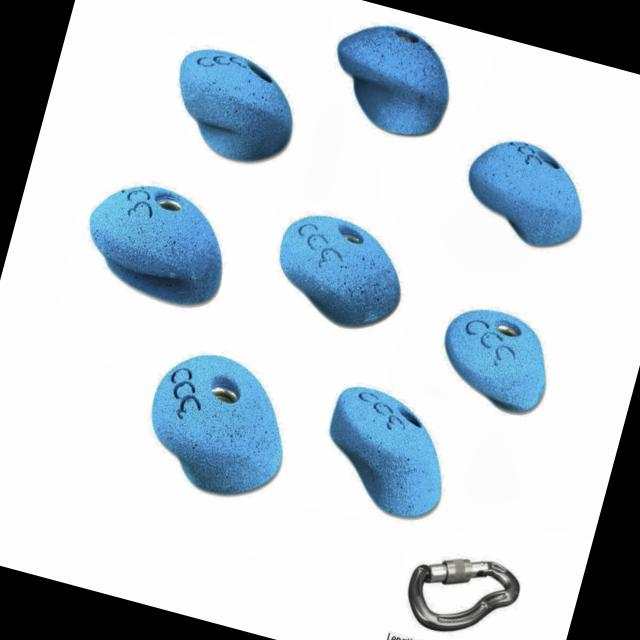Hold: (130, 339, 304, 511), (74, 170, 242, 316), (312, 382, 468, 532), (264, 202, 418, 340), (161, 39, 310, 175), (320, 8, 464, 146), (456, 130, 596, 261), (428, 294, 564, 419)
